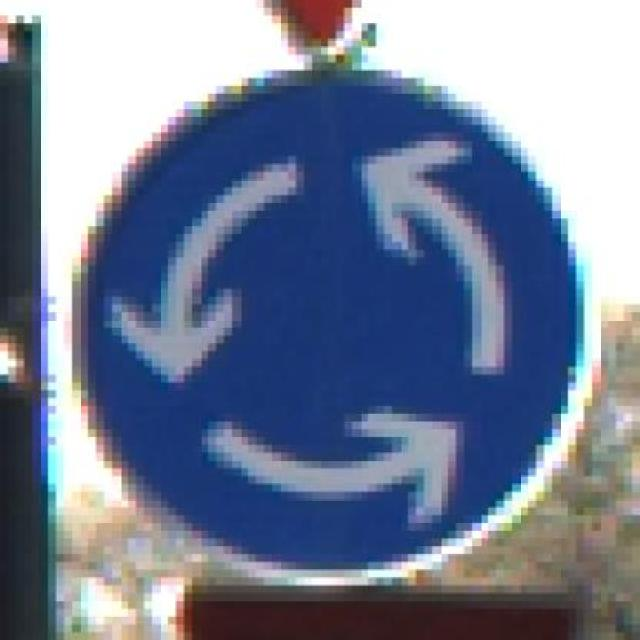Round-About: (56, 55, 624, 593)
